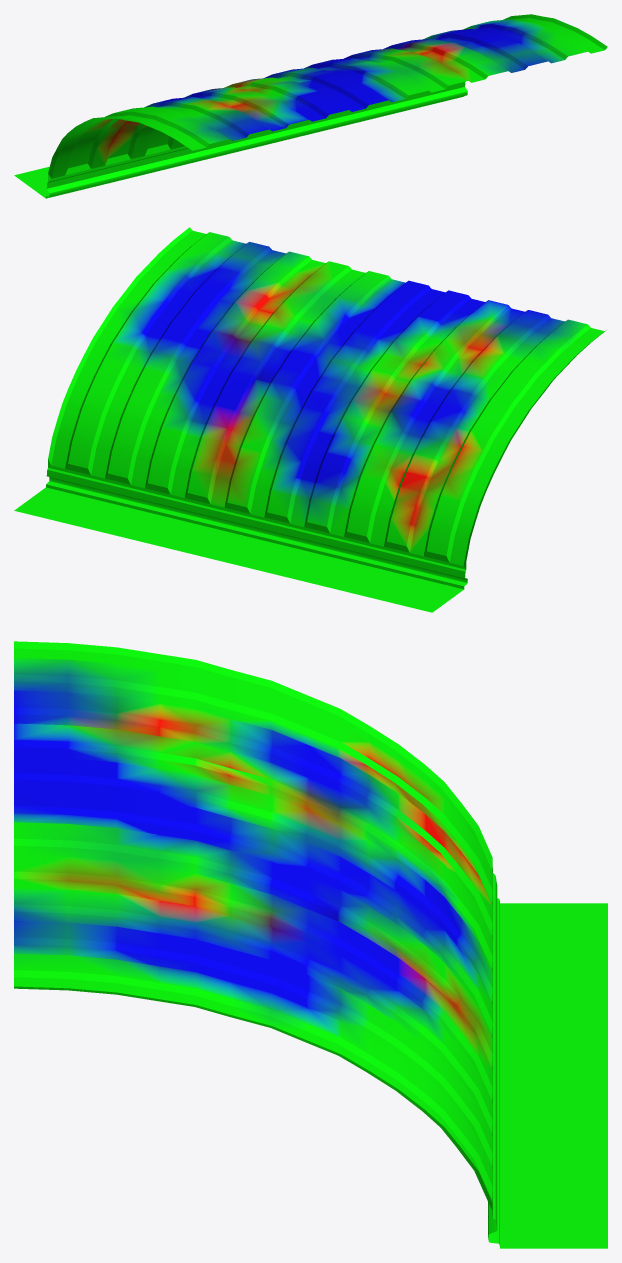
3 views of the same model, one above another, from view 1: azimuth 30°, elevation 25°; view 2: azimuth 150°, elevation 25°; view 3: azimuth 270°, elevation 25° (orthographic). The views are drawn at different scales.
Parts seen in each view (by area): view 1: SM_Platform_Ceiling_07_LOD0; view 2: SM_Platform_Ceiling_07_LOD0; view 3: SM_Platform_Ceiling_07_LOD0.
Boxes of the visible parts, x1=… form: SM_Platform_Ceiling_07_LOD0: x1=14, y1=14, x2=607, y2=198; SM_Platform_Ceiling_07_LOD0: x1=14, y1=227, x2=606, y2=612; SM_Platform_Ceiling_07_LOD0: x1=14, y1=641, x2=607, y2=1248.
Size of the model in its own units: 825 by 600 by 292.
